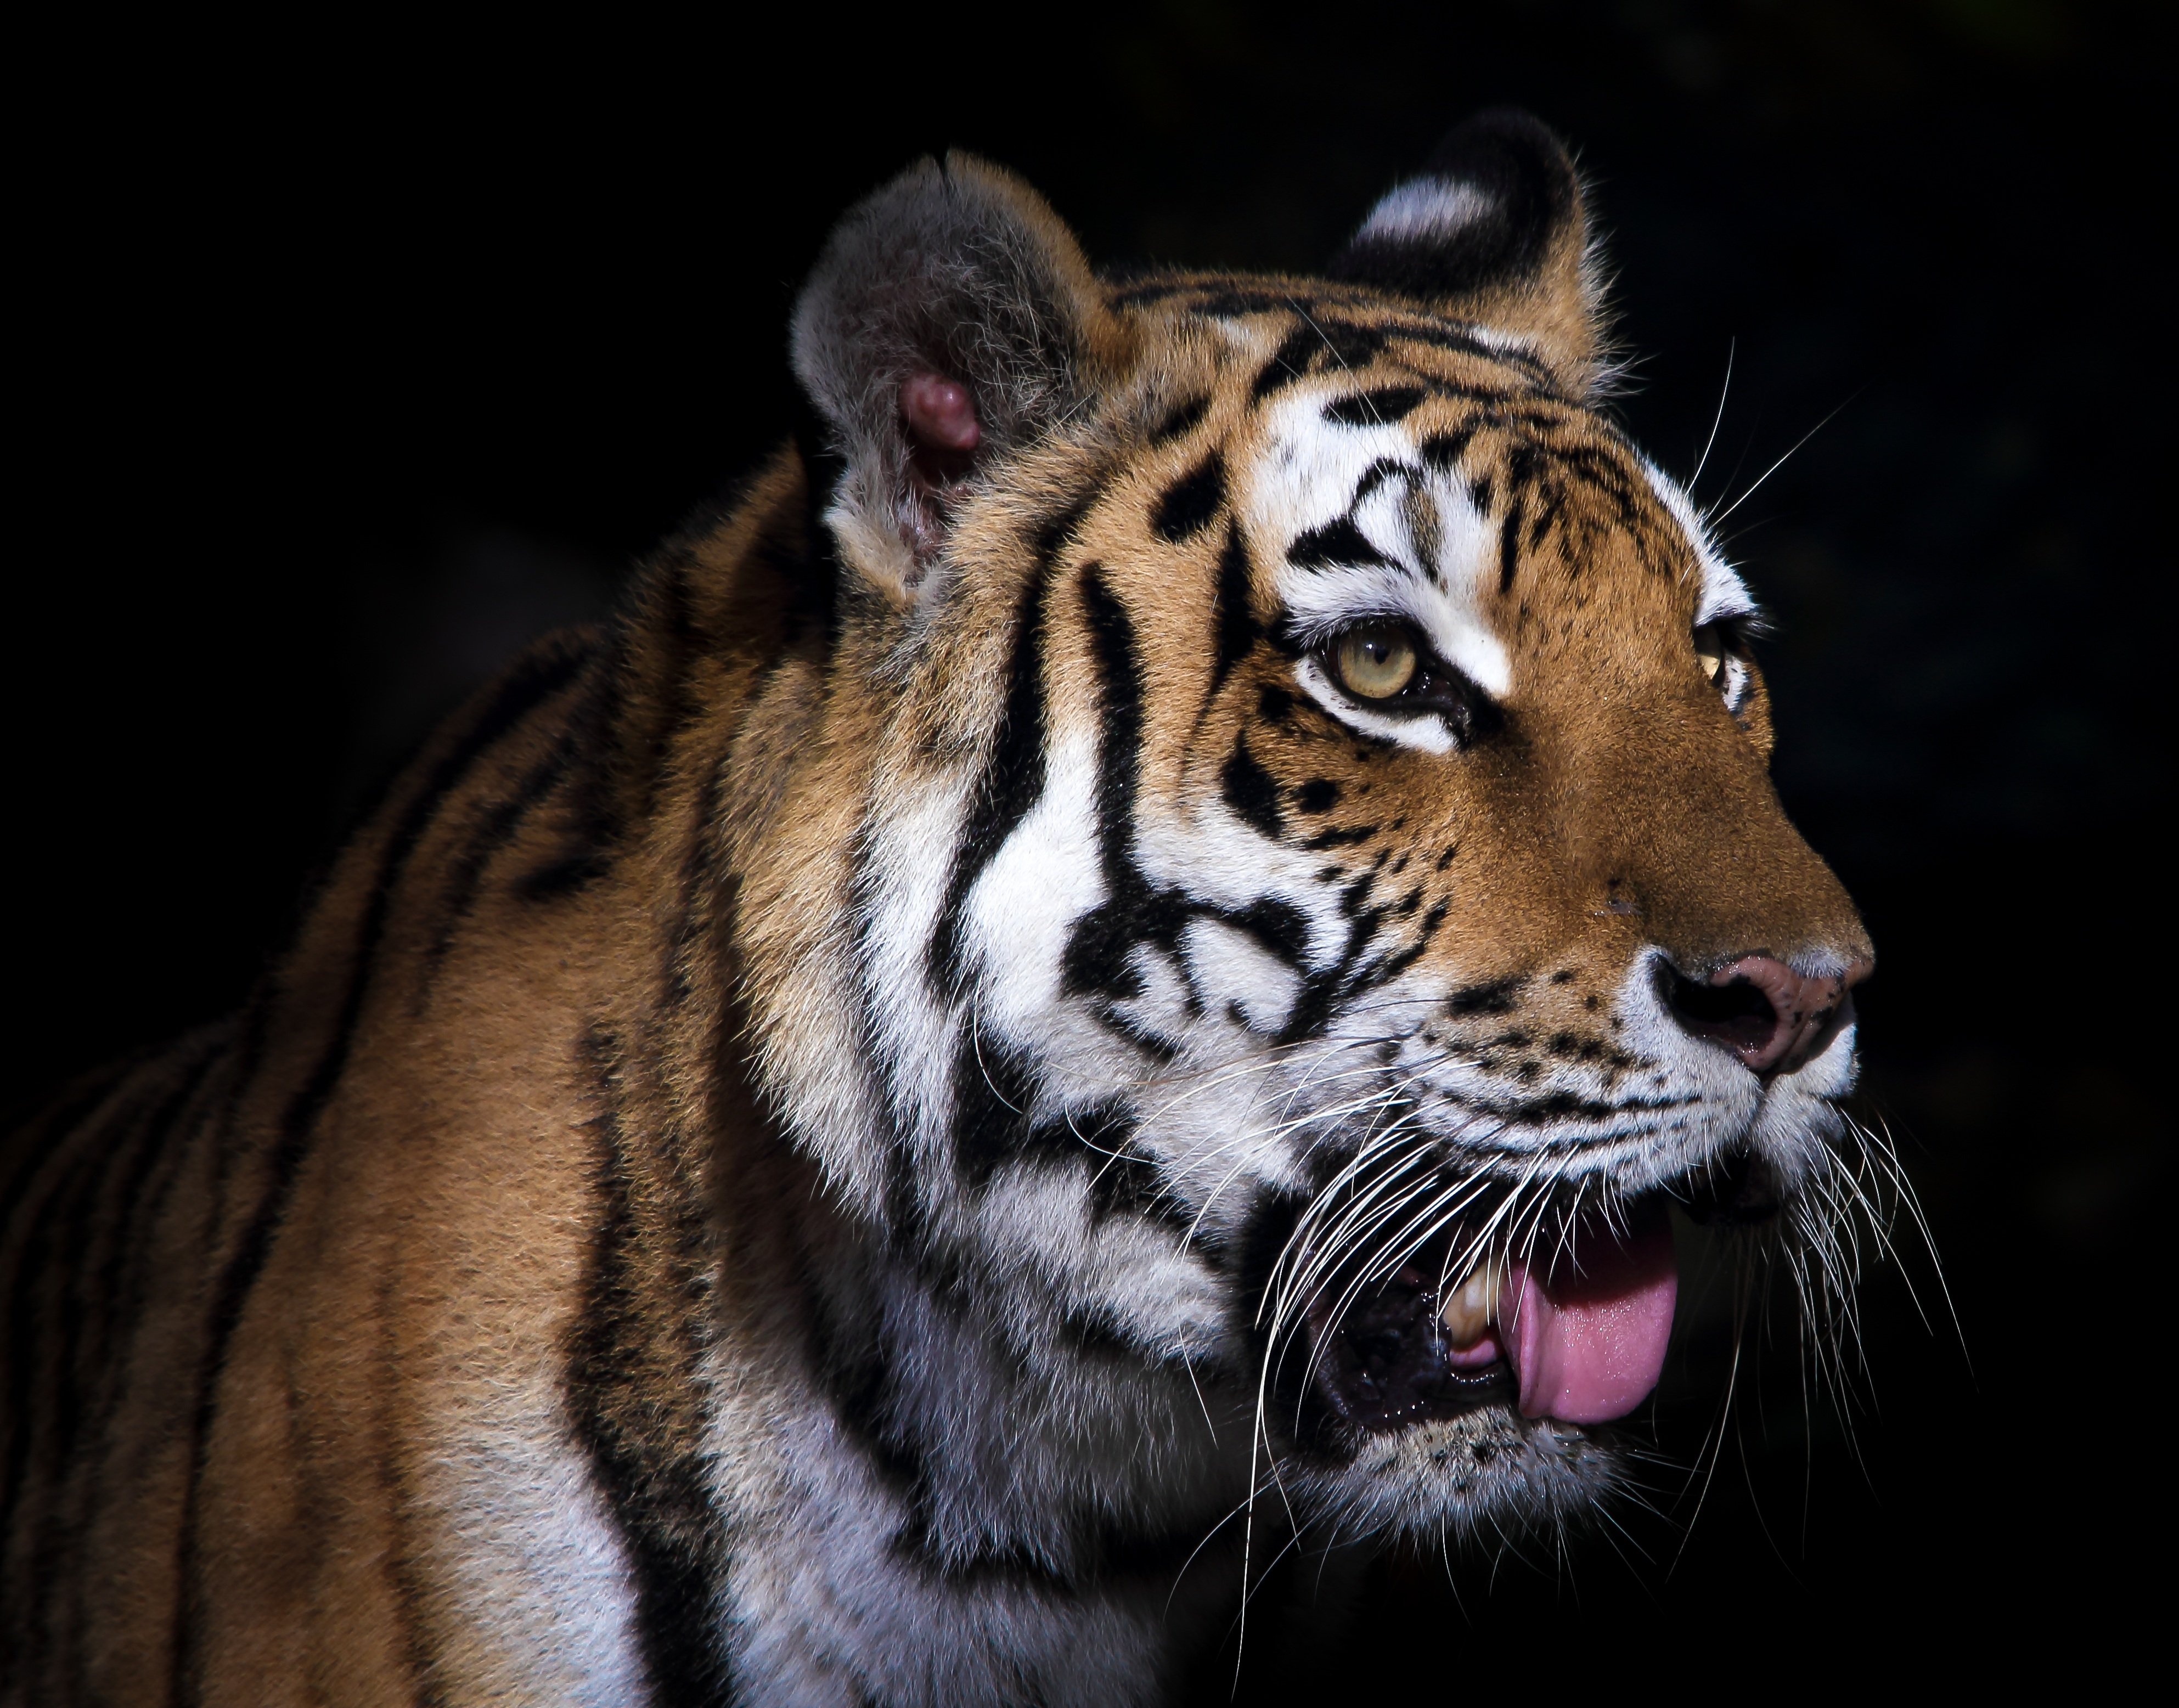tiger: (532, 172, 1940, 1538)
